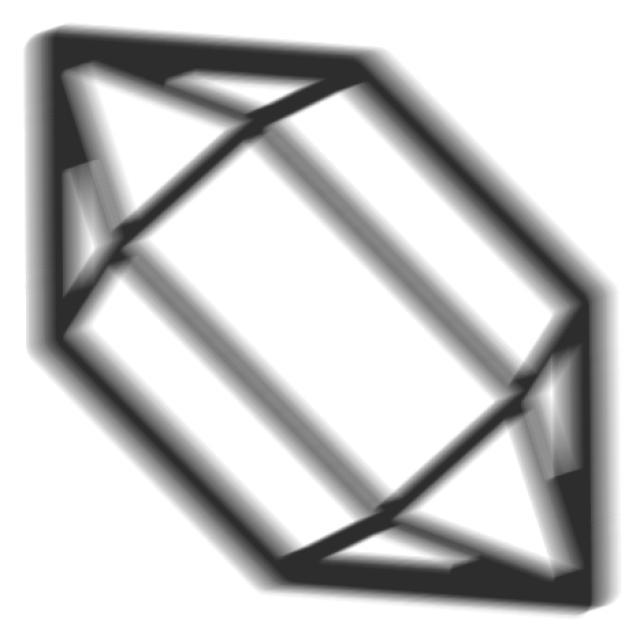crystal: (9, 21, 626, 625)
